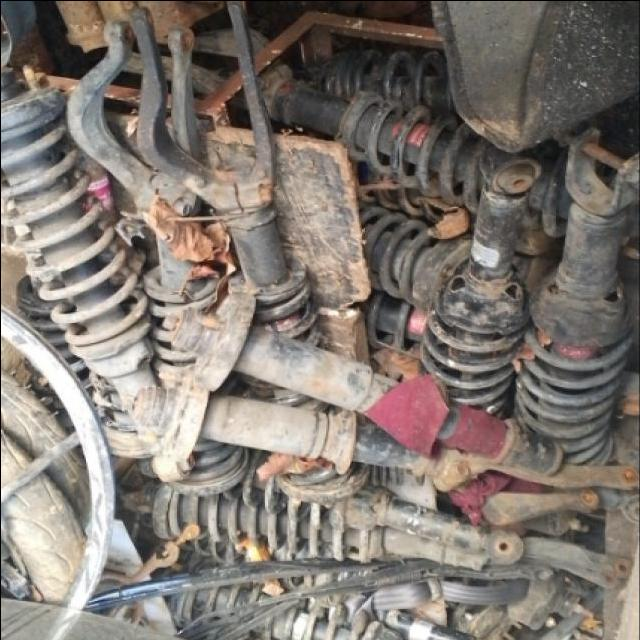shock absorber: (1, 88, 194, 481), (512, 124, 639, 466), (416, 144, 543, 420), (123, 479, 489, 570)
